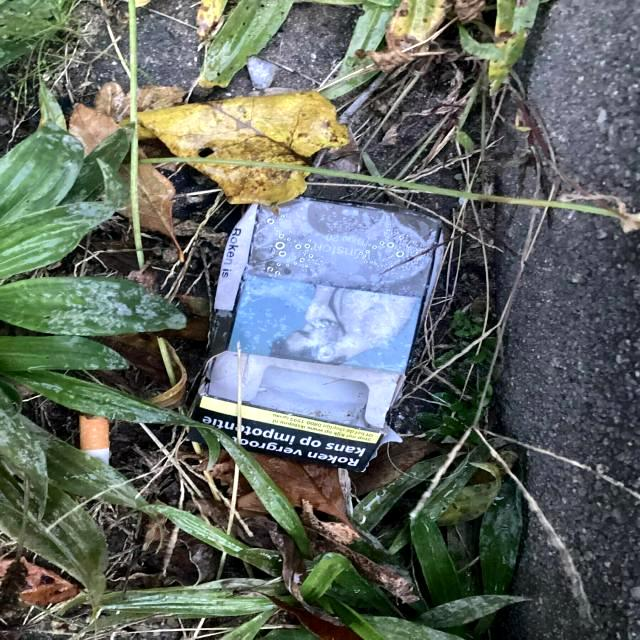Paper: (186, 191, 452, 477)
